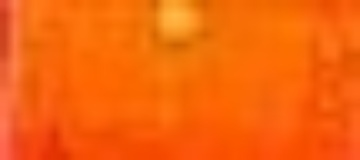Hotspot: (152, 2, 209, 43)
